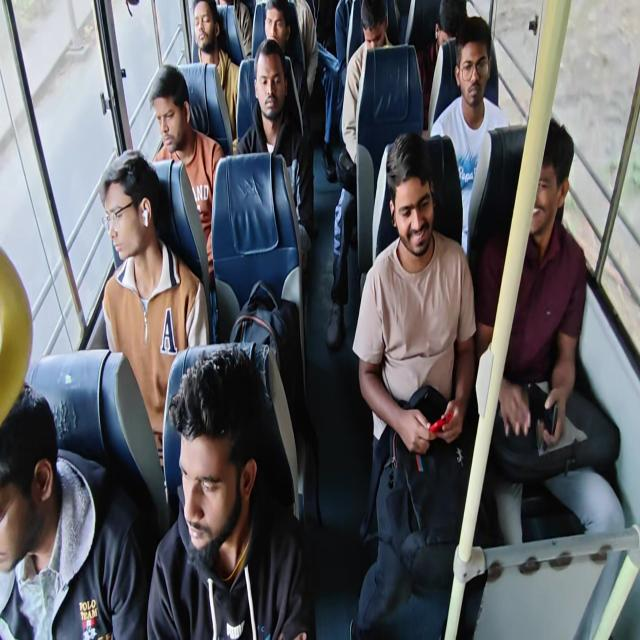person: (0, 378, 96, 572), (167, 373, 260, 568), (499, 100, 579, 255), (444, 20, 512, 131), (96, 158, 152, 290), (251, 44, 320, 148), (374, 165, 429, 273), (152, 66, 191, 166), (425, 0, 472, 56), (186, 0, 231, 50), (363, 3, 398, 51), (265, 4, 294, 48), (334, 2, 358, 37)
